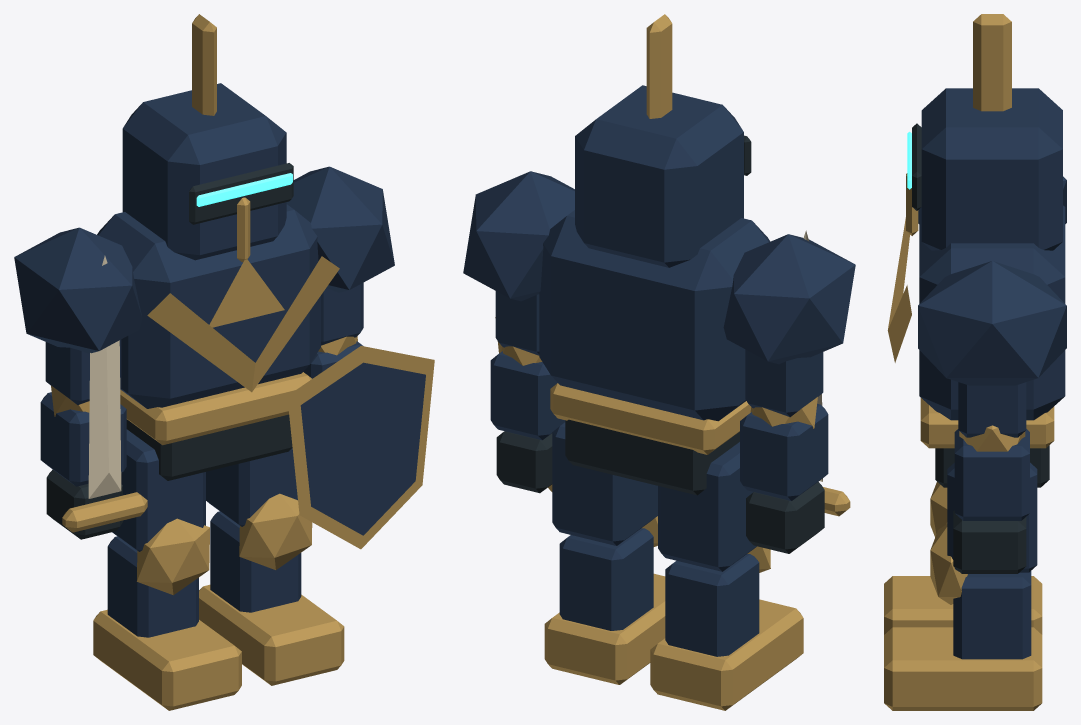
File: palace-sentinel.glb
The picture shows the model from 3 angles, left to right: view 1: azimuth 30°, elevation 25°; view 2: azimuth 150°, elevation 25°; view 3: azimuth 270°, elevation 25°; orthographic projection. The views are drawn at different scales.
Visible parts, largest first — view 1: SentinelBreastplate, SentinelHelmet, SentinelShield face, SentinelShoulder, SentinelBoot, SentinelBoot.001, SentinelShoulder.001, SentinelShield, SentinelBelt, SentinelChest chevron, SentinelThigh, SentinelShin (+17 smaller); view 2: SentinelBreastplate, SentinelHelmet, SentinelShoulder, SentinelShoulder.001, SentinelBoot, SentinelShin.001, SentinelShin, SentinelThigh, SentinelThigh.001, SentinelWaist, SentinelBoot.001, SentinelForearm (+9 smaller); view 3: SentinelHelmet, SentinelShoulder.001, SentinelBoot.001, SentinelBreastplate, SentinelShin.001, SentinelForearm.001, SentinelFist.001, SentinelBoot, SentinelCrown, SentinelUpper arm.001, SentinelBelt, SentinelThigh.001 (+7 smaller).
Boxes of the visible parts, x1=… form: SentinelBreastplate: x1=97, y1=204, x2=320, y2=408; SentinelHelmet: x1=122, y1=83, x2=286, y2=260; SentinelShield face: x1=300, y1=362, x2=425, y2=535; SentinelShoulder: x1=14, y1=227, x2=142, y2=353; SentinelBoot: x1=93, y1=609, x2=241, y2=710; SentinelBoot.001: x1=199, y1=584, x2=344, y2=685; SentinelShoulder.001: x1=286, y1=166, x2=394, y2=292; SentinelShield: x1=287, y1=346, x2=434, y2=549; SentinelBelt: x1=120, y1=372, x2=311, y2=445; SentinelChest chevron: x1=147, y1=256, x2=339, y2=392; SentinelThigh: x1=112, y1=429, x2=205, y2=551; SentinelShin: x1=107, y1=536, x2=198, y2=637; SentinelBreastplate: x1=539, y1=210, x2=770, y2=421; SentinelHelmet: x1=575, y1=85, x2=743, y2=267; SentinelShoulder: x1=723, y1=234, x2=855, y2=364; SentinelShoulder.001: x1=463, y1=171, x2=574, y2=301; SentinelBoot: x1=650, y1=599, x2=803, y2=710; SentinelShin.001: x1=559, y1=528, x2=653, y2=630; SentinelShin: x1=665, y1=554, x2=759, y2=656; SentinelThigh: x1=658, y1=442, x2=756, y2=571; SentinelThigh.001: x1=552, y1=422, x2=657, y2=545; SentinelWaist: x1=565, y1=419, x2=739, y2=495; SentinelBoot.001: x1=544, y1=573, x2=665, y2=684; SentinelForearm: x1=740, y1=403, x2=828, y2=500; SentinelHelmet: x1=921, y1=88, x2=1062, y2=250; SentinelShoulder.001: x1=918, y1=261, x2=1066, y2=385; SentinelBoot.001: x1=884, y1=627, x2=1042, y2=710; SentinelBreastplate: x1=919, y1=205, x2=1065, y2=420; SentinelShin.001: x1=953, y1=571, x2=1031, y2=659; SentinelForearm.001: x1=954, y1=429, x2=1029, y2=520; SentinelFist.001: x1=953, y1=510, x2=1026, y2=573; SentinelBoot: x1=884, y1=576, x2=1042, y2=634; SentinelCrown: x1=973, y1=14, x2=1011, y2=111; SentinelUpper arm.001: x1=958, y1=382, x2=1026, y2=437; SentinelBelt: x1=920, y1=398, x2=1054, y2=448; SentinelThigh.001: x1=947, y1=462, x2=1037, y2=572.
Bounding box in the file's own units: 1.64 × 2.67 × 0.6761.
